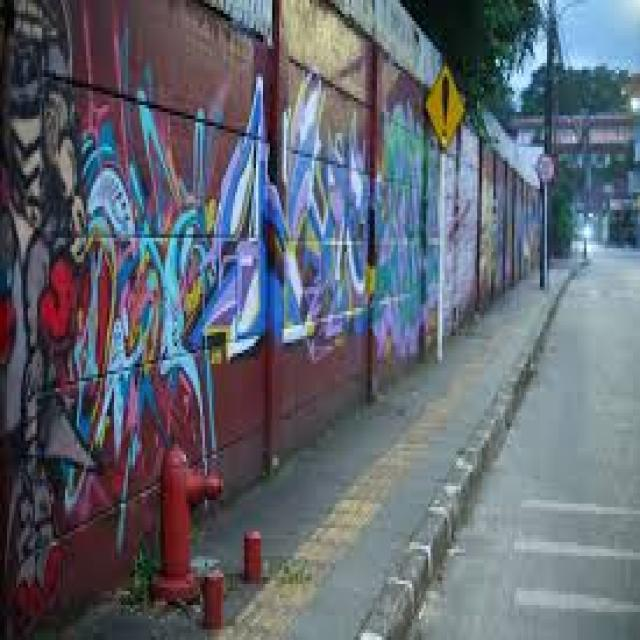-: (0, 3, 212, 616), (191, 69, 366, 361), (372, 103, 439, 359)
